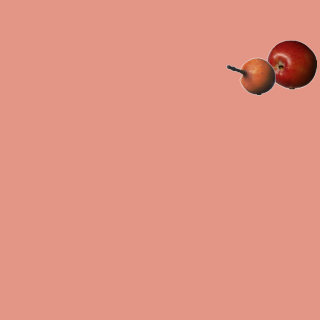Apple Braeburn: (266, 39, 316, 89)
Granadilla: (225, 51, 275, 101)
